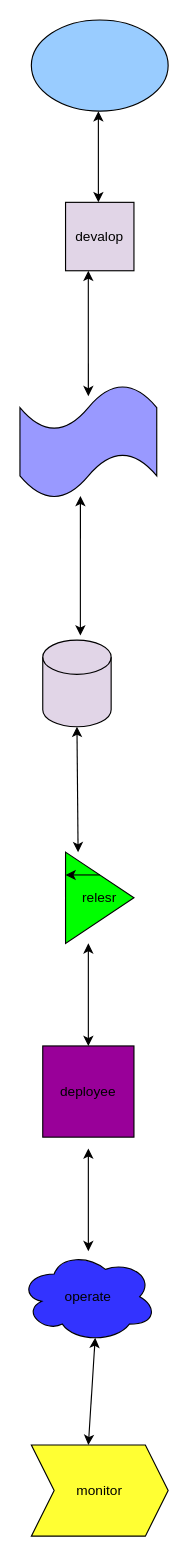
Some shapes in this 188 by 1556 pixel diagram are drawn without their labels. The centre of each missing label's shape, as x and y in pixels:
"build" goes at (88,441).
"plan" goes at (99,65).
"test" goes at (76,683).
